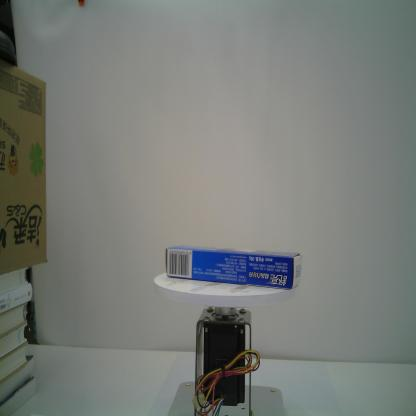Personal Hygiene: (163, 244, 303, 290)
